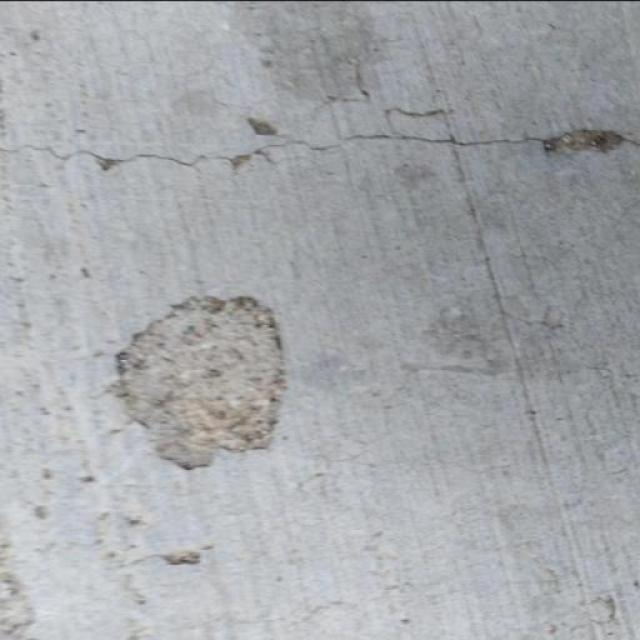D10: (108, 292, 285, 470), (544, 128, 630, 162)
